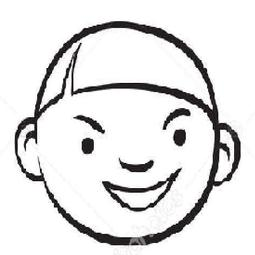ear: (209, 117, 244, 192), (11, 114, 46, 183)
frowning_eyebrow: (68, 105, 107, 133), (161, 107, 190, 132)
nose: (118, 156, 161, 177)
open_mouth: (94, 172, 185, 215)
small_eye: (75, 136, 100, 161), (172, 125, 193, 151)
